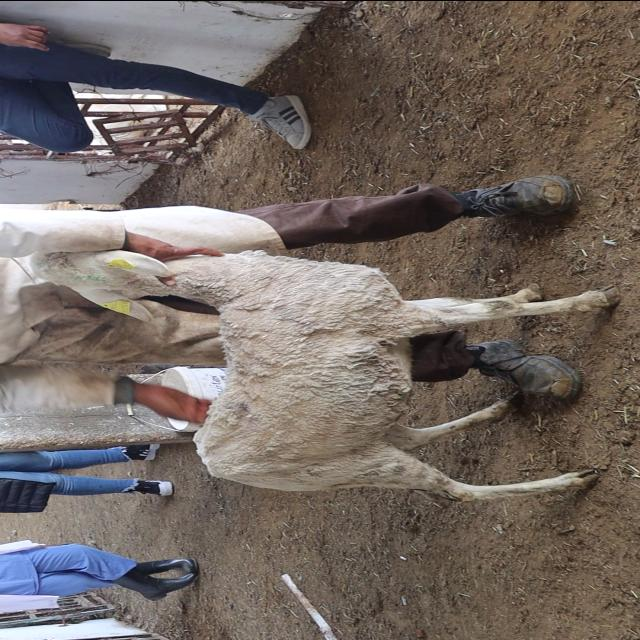Score_1: (30, 249, 615, 499)
